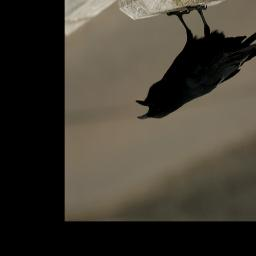Crow: (129, 0, 256, 122)
